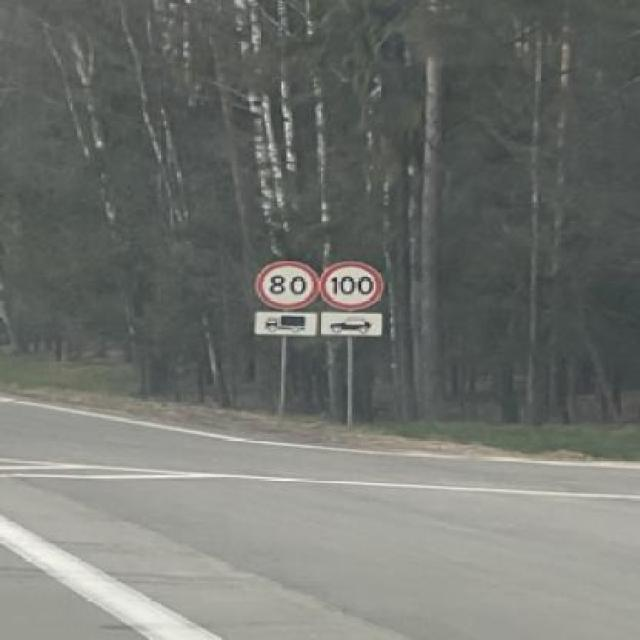forb_speed_over_100: (319, 260, 384, 309)
forb_speed_over_80: (254, 259, 317, 310)
